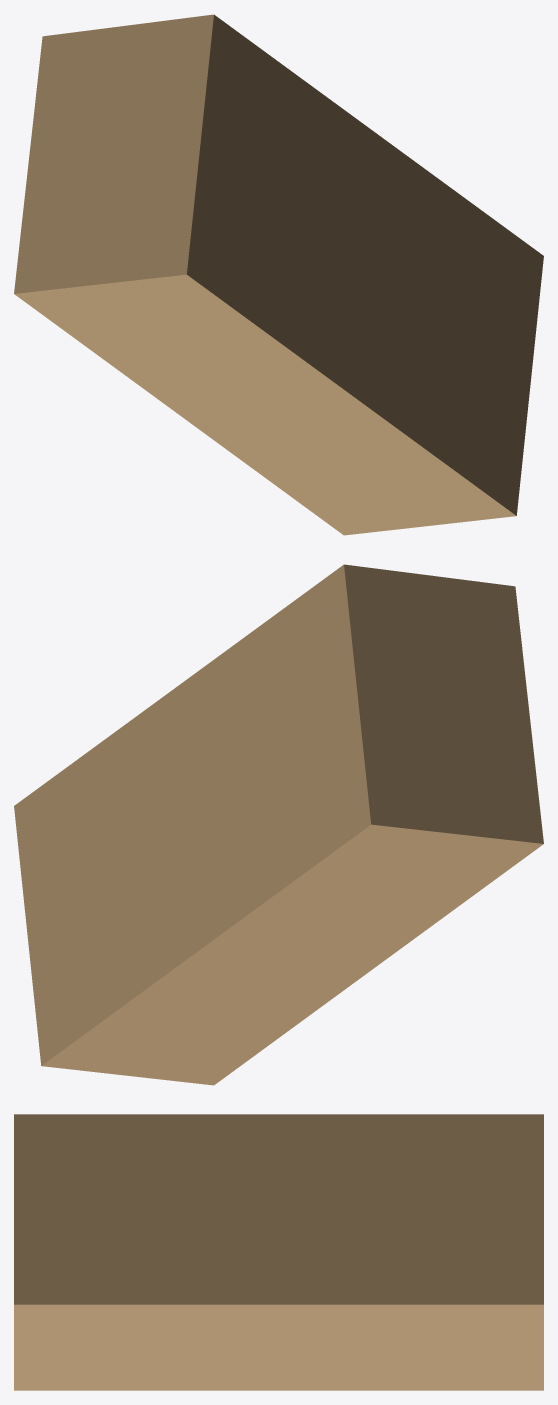
3 renders of one model, top to bottom at view 1: azimuth 30°, elevation 25°; view 2: azimuth 150°, elevation 25°; view 3: azimuth 270°, elevation 25°, orthographic. The views are drawn at different scales.
Parts seen in each view (by area): view 1: 0_0_3_1_3_3_2_2_0_3_1; view 2: 0_0_3_1_3_3_2_2_0_3_1; view 3: 0_0_3_1_3_3_2_2_0_3_1.
Boxes of the visible parts, x1,y1,x2,y2 form: 0_0_3_1_3_3_2_2_0_3_1: [14, 14, 543, 535]; 0_0_3_1_3_3_2_2_0_3_1: [14, 564, 543, 1085]; 0_0_3_1_3_3_2_2_0_3_1: [14, 1114, 543, 1390].
Size of the model in its own units: 7.35 by 9.6 by 21.
